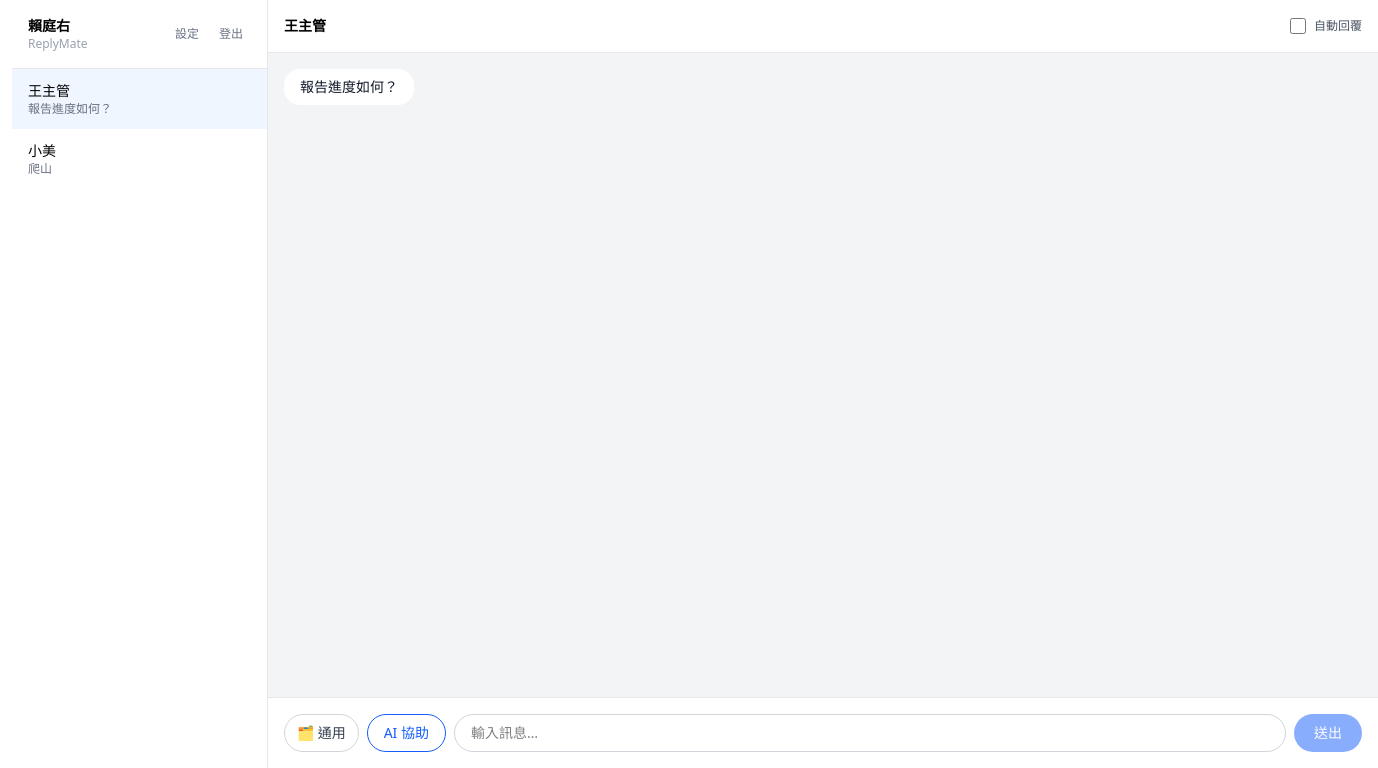
Test case: ChatApp — 語料分類選擇 › 展開選單選擇分類 → PUT 對話設定並更新按鈕
Click the button with aria-label "語料分類": point(321, 733) [284, 714, 359, 752]
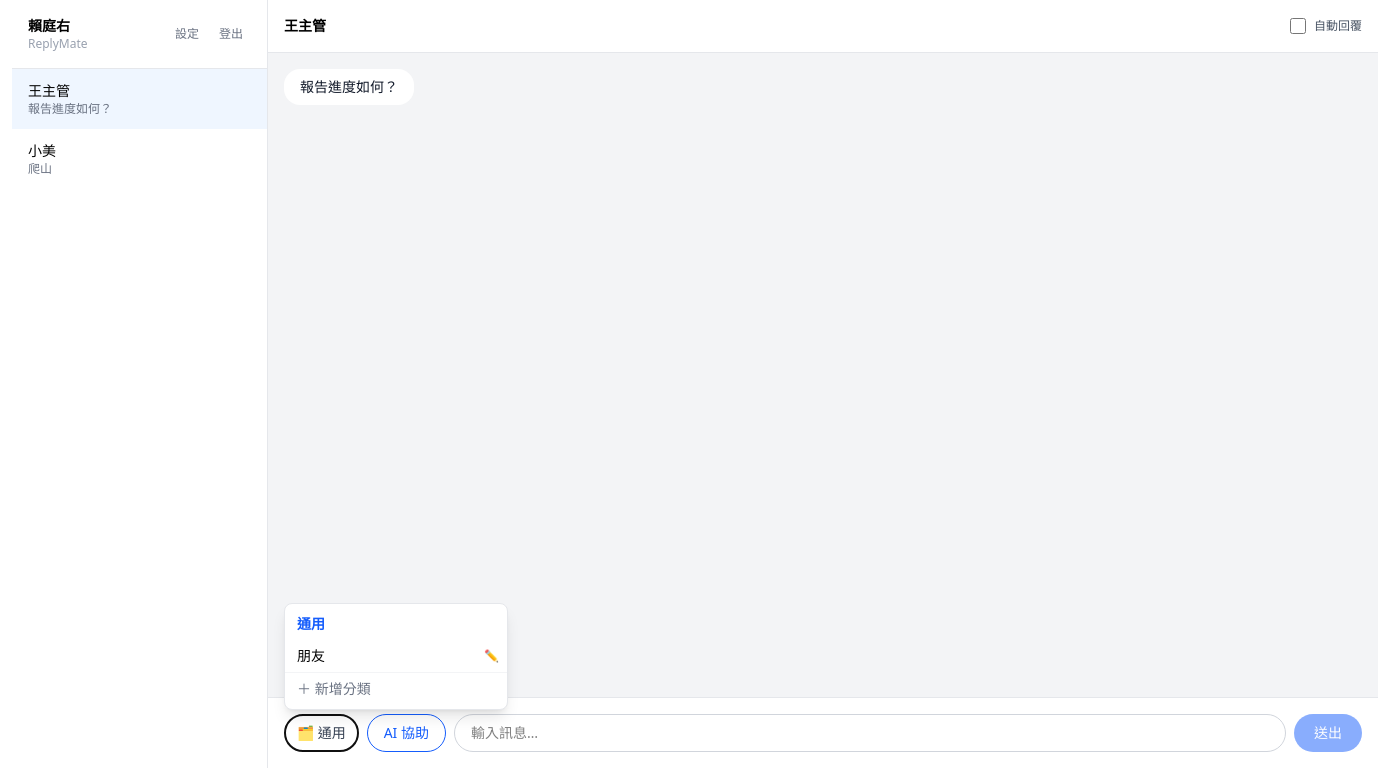
Click the button "朋友": point(380, 656) [285, 640, 476, 672]
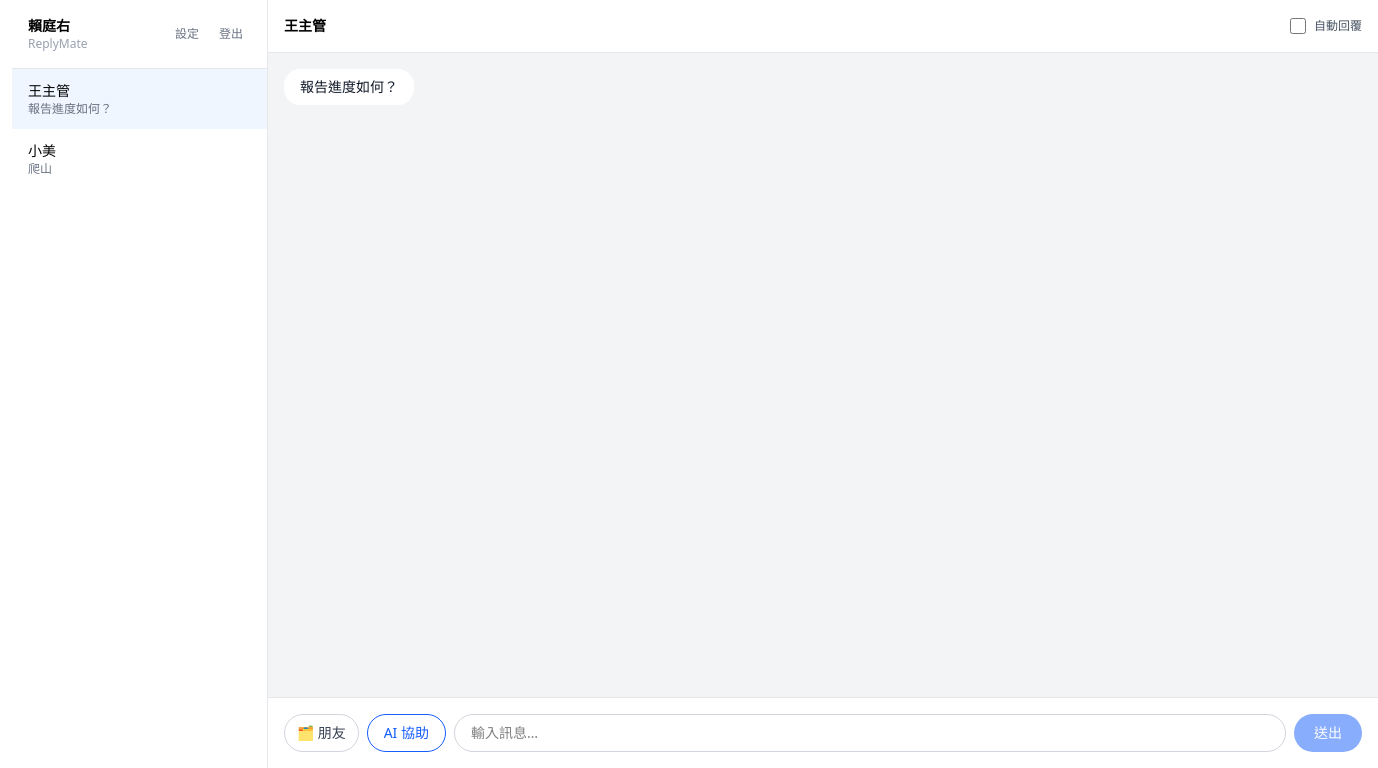
Expected: the button with aria-label "語料分類" shows "朋友", [284, 714, 359, 752]
